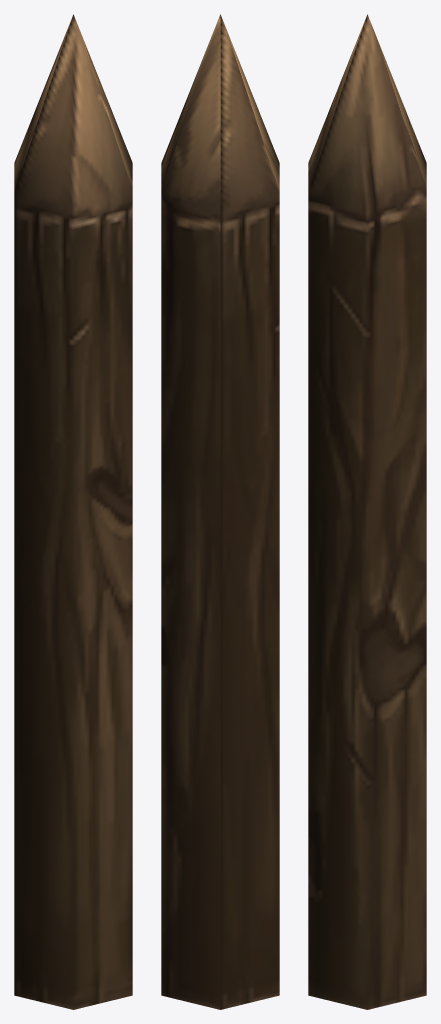
Rendered from pole_04.fbx.
3 views of the same model, side by side, from view 1: azimuth 90°, elevation 25°; view 2: azimuth 150°, elevation 25°; view 3: azimuth 270°, elevation 25° (orthographic).
Parts seen in each view (by area): view 1: pole_04; view 2: pole_04; view 3: pole_04.
Part boxes in pixels (box(x1,y1,x2,y2)): pole_04: box(14, 14, 132, 1009); pole_04: box(161, 14, 279, 1009); pole_04: box(308, 14, 426, 1009).
Size of the model in its own units: 40 by 313 by 34.64.
